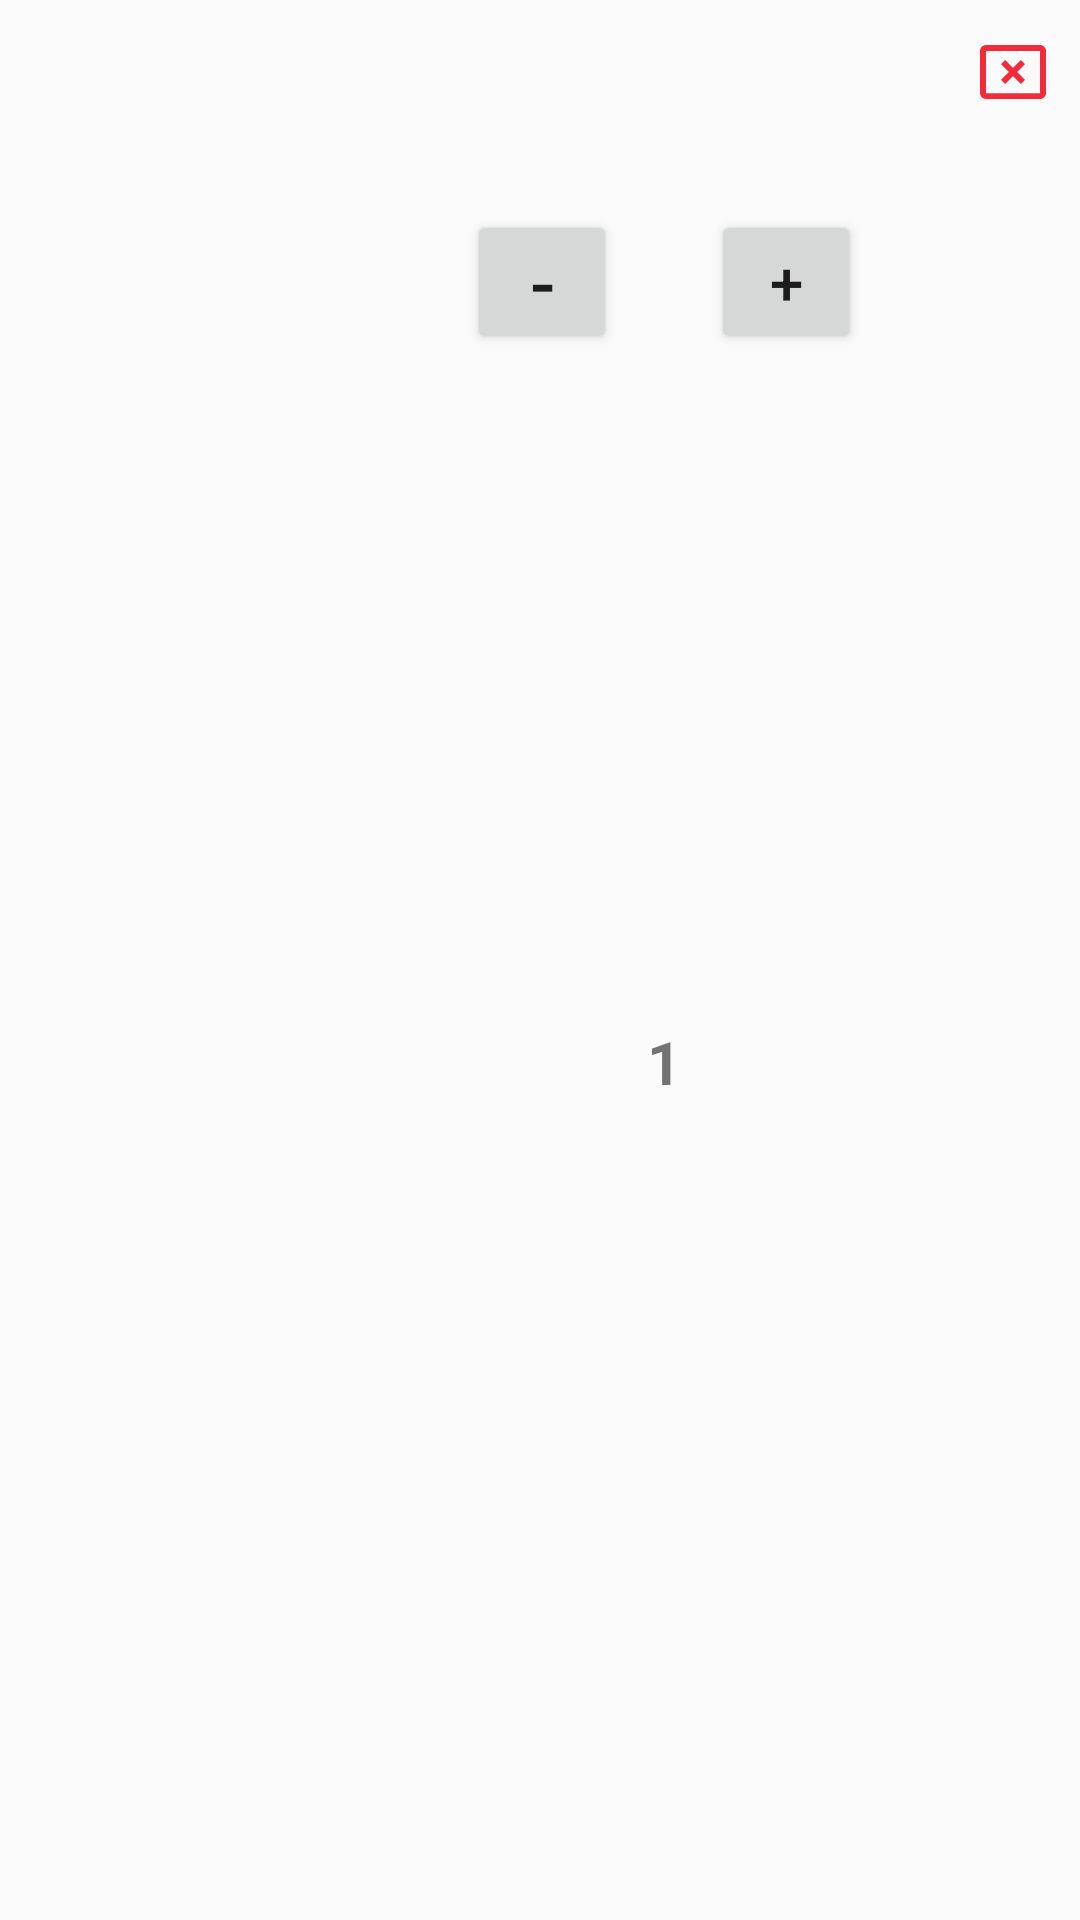

Screen size 1080px×1920px. Icon name, then its center in pixels as point (x, y):
cancel: point (1013, 72)
